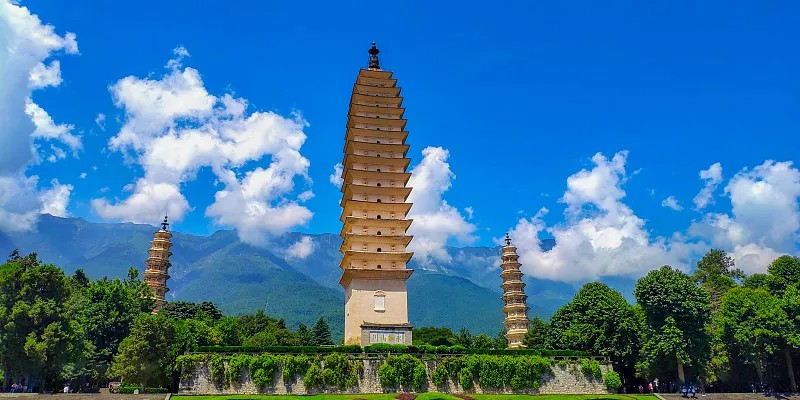ThreePagoda: (338, 42, 414, 346)
